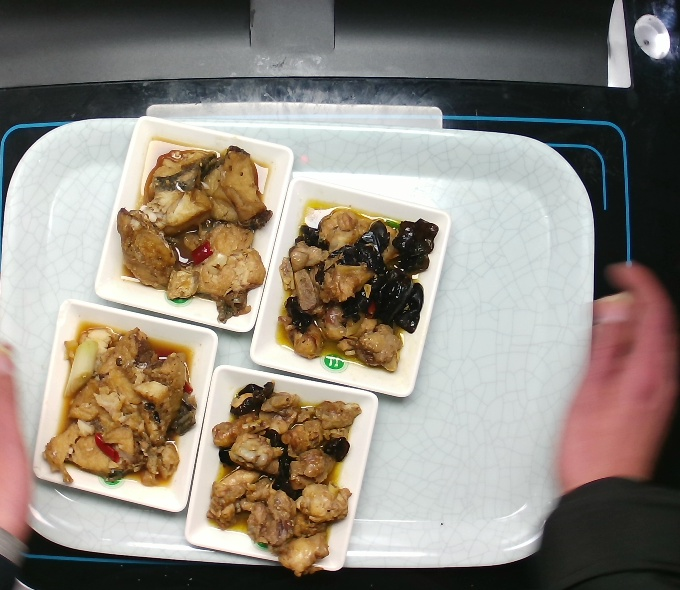wcq-MuErRouKuai: (270, 184, 436, 373), (202, 381, 368, 570)
wcq-YuKuai: (111, 137, 283, 327), (28, 311, 200, 501)
